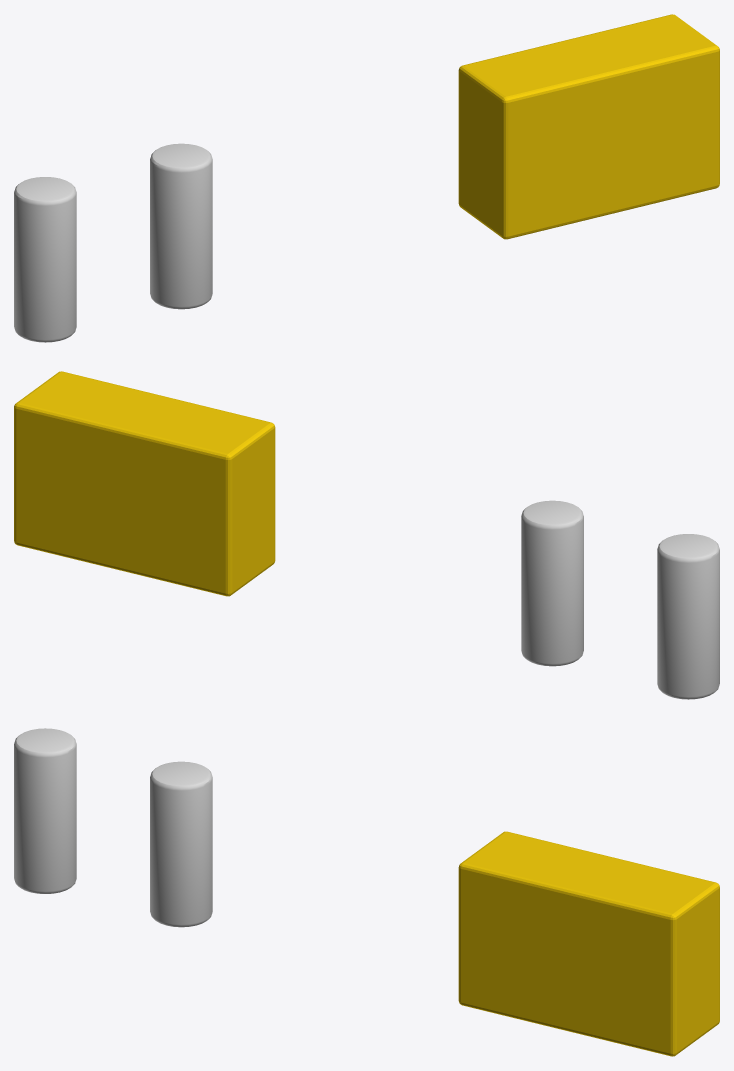
File: tension_electrique_v1.glb
3 renders of one model, top to bottom at view 1: azimuth 30°, elevation 25°; view 2: azimuth 150°, elevation 25°; view 3: azimuth 330°, elevation 25°, orthographic.
Parts seen in each view (by area): view 1: voltmeter, battery_2, battery_1; view 2: voltmeter, battery_2, battery_1; view 3: voltmeter, battery_2, battery_1.
Boxes of the visible parts, <box> form: voltmeter: <box>458,14,719,239</box>; battery_2: <box>150,143,212,309</box>; battery_1: <box>14,177,76,342</box>; voltmeter: <box>14,371,275,596</box>; battery_2: <box>521,500,583,666</box>; battery_1: <box>657,534,719,699</box>; voltmeter: <box>458,831,719,1056</box>; battery_2: <box>150,761,212,927</box>; battery_1: <box>14,728,76,893</box>.
Size of what is drawn, in the model's own units: 5 by 1 by 0.6.
